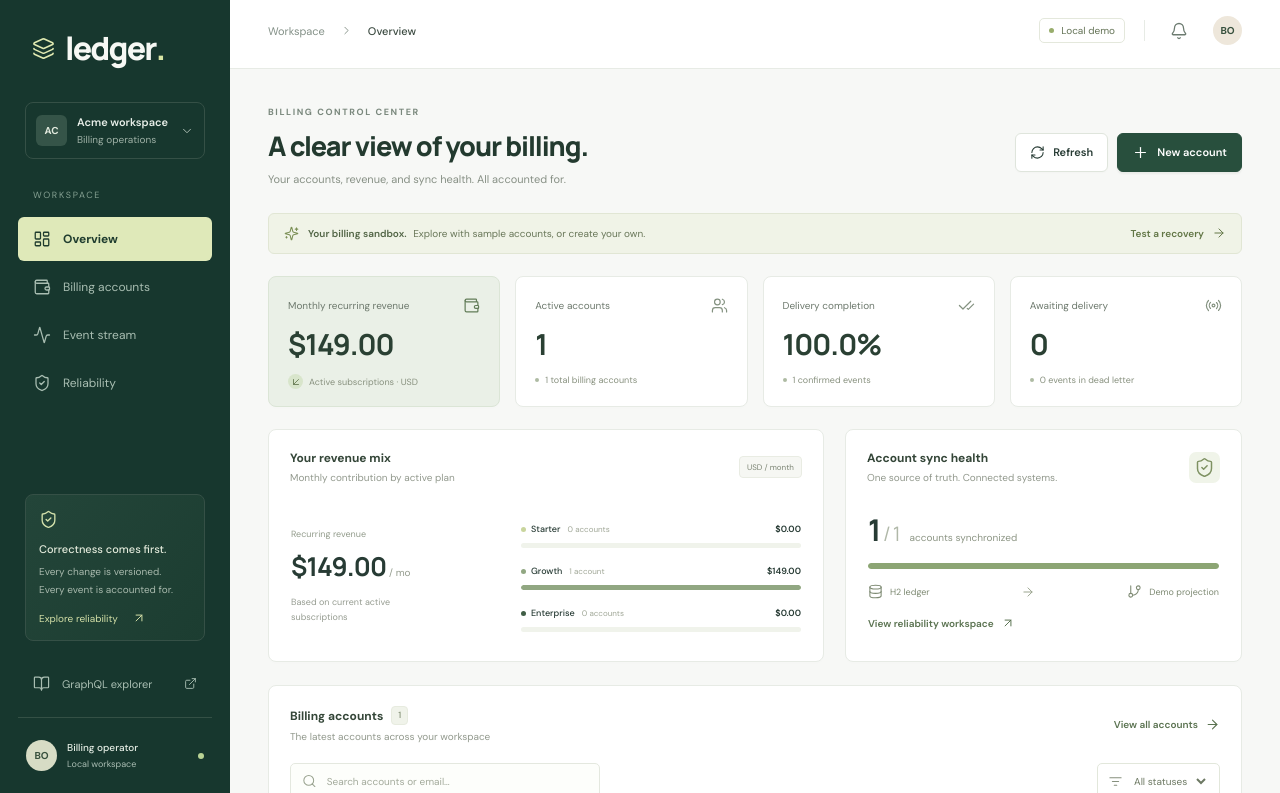
it: Billing workspace › loads live accounts and filters the account table
Type "missing" into the field labelled "Search accounts" at point(456, 782), box [325,774,588,789]
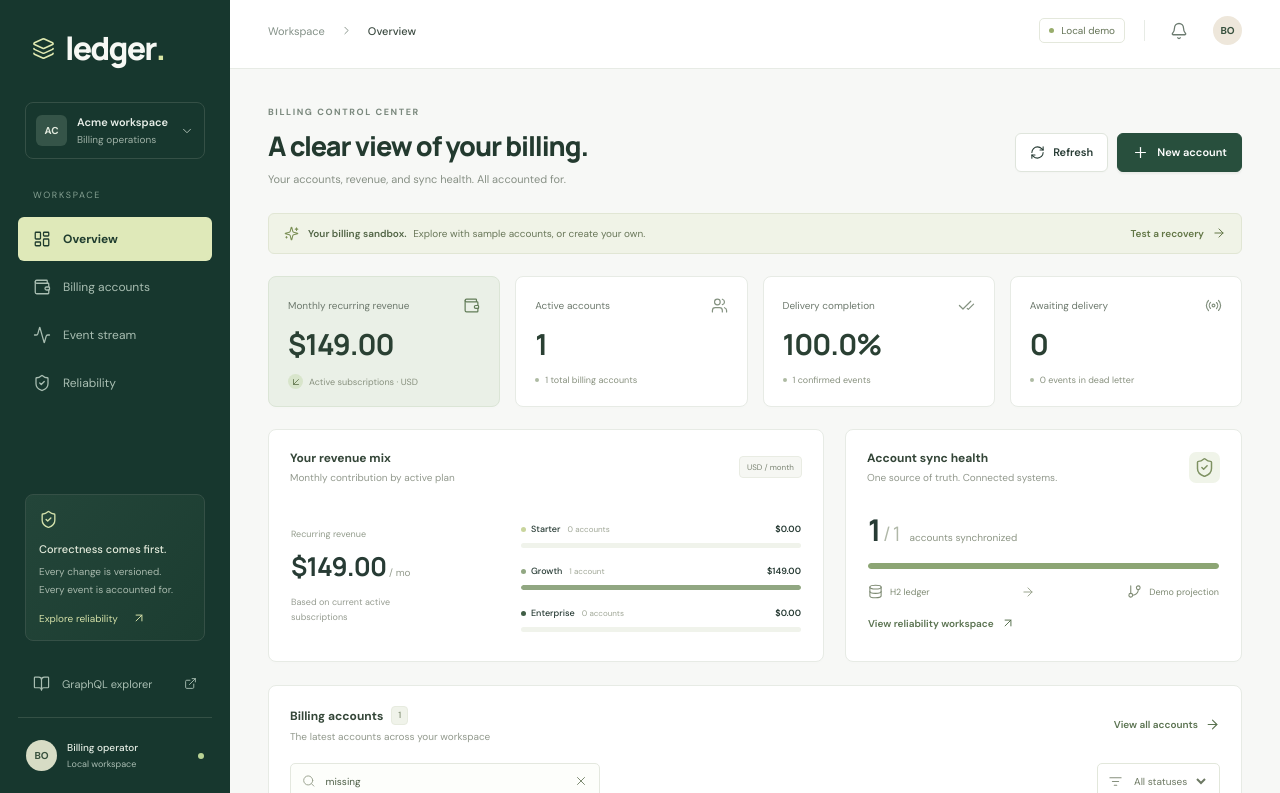
Click the button named "Clear search" at point(581, 782), box [574,774,588,788]
(page scrolled)
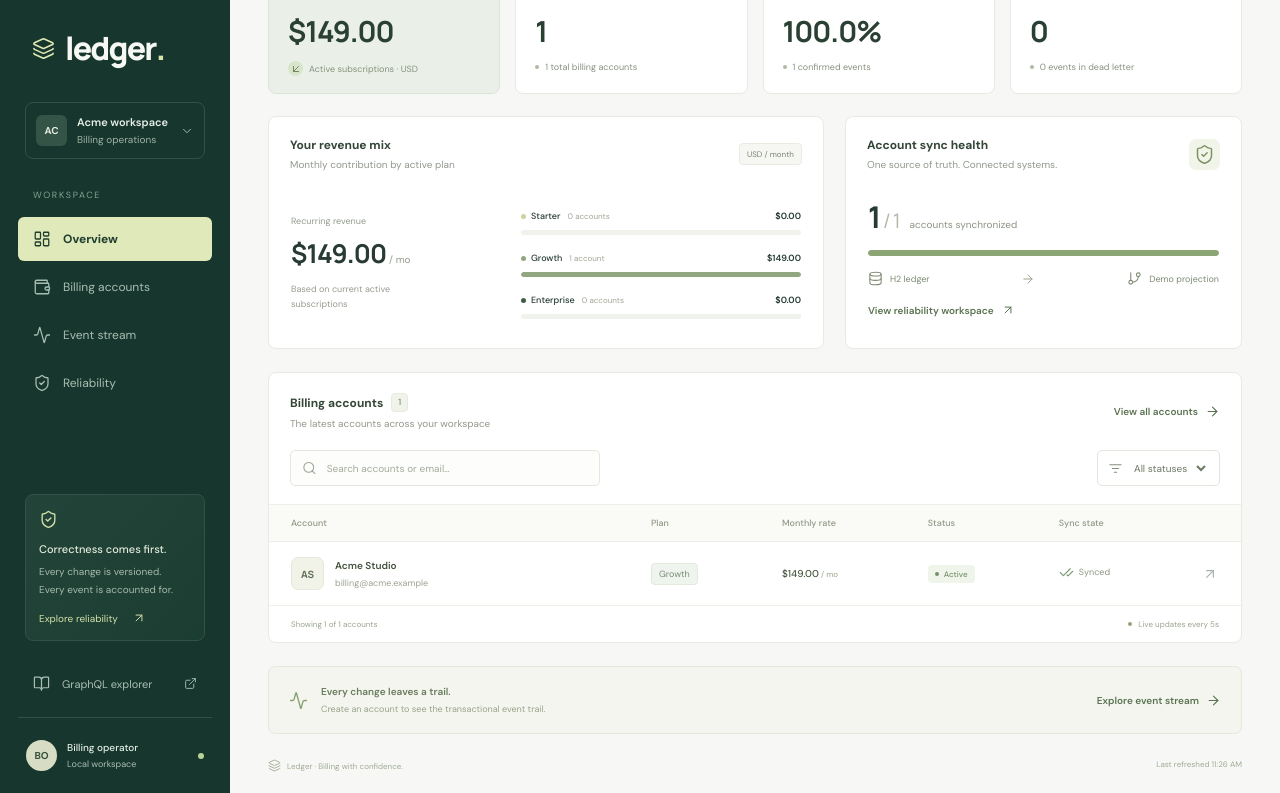
Now the text "Acme Studio" is shown, box [335,559,397,572]
